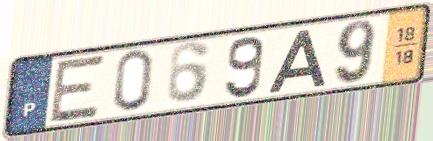0: (111, 48, 155, 116)
6: (165, 39, 213, 111)
9: (331, 17, 382, 86), (224, 35, 266, 99)
A: (265, 27, 328, 95)
E: (46, 52, 108, 126)
